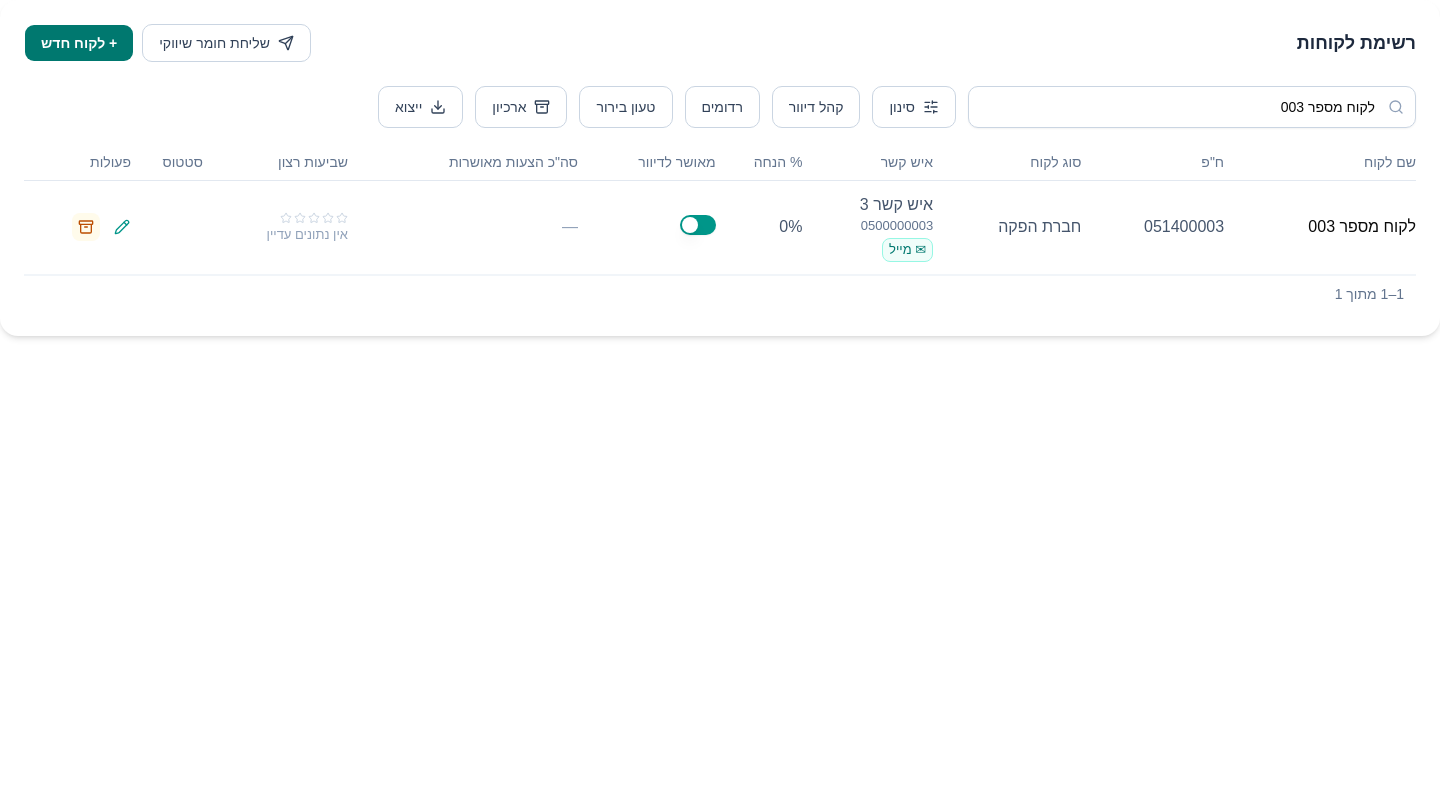
Test case: CustomersPage — חיבור לחלון-הייצוא › סינון-המסך כן משפיע — חיפוש שמשאיר לקוח אחד ⇒ שורה אחת
Check: the table with test id "customers-table" is shown, box top-left (24, 144), bottom-right (1416, 275)
Click the button with test id "customers-export-button" at [421, 107], box top-left (378, 86), bottom-right (463, 128)
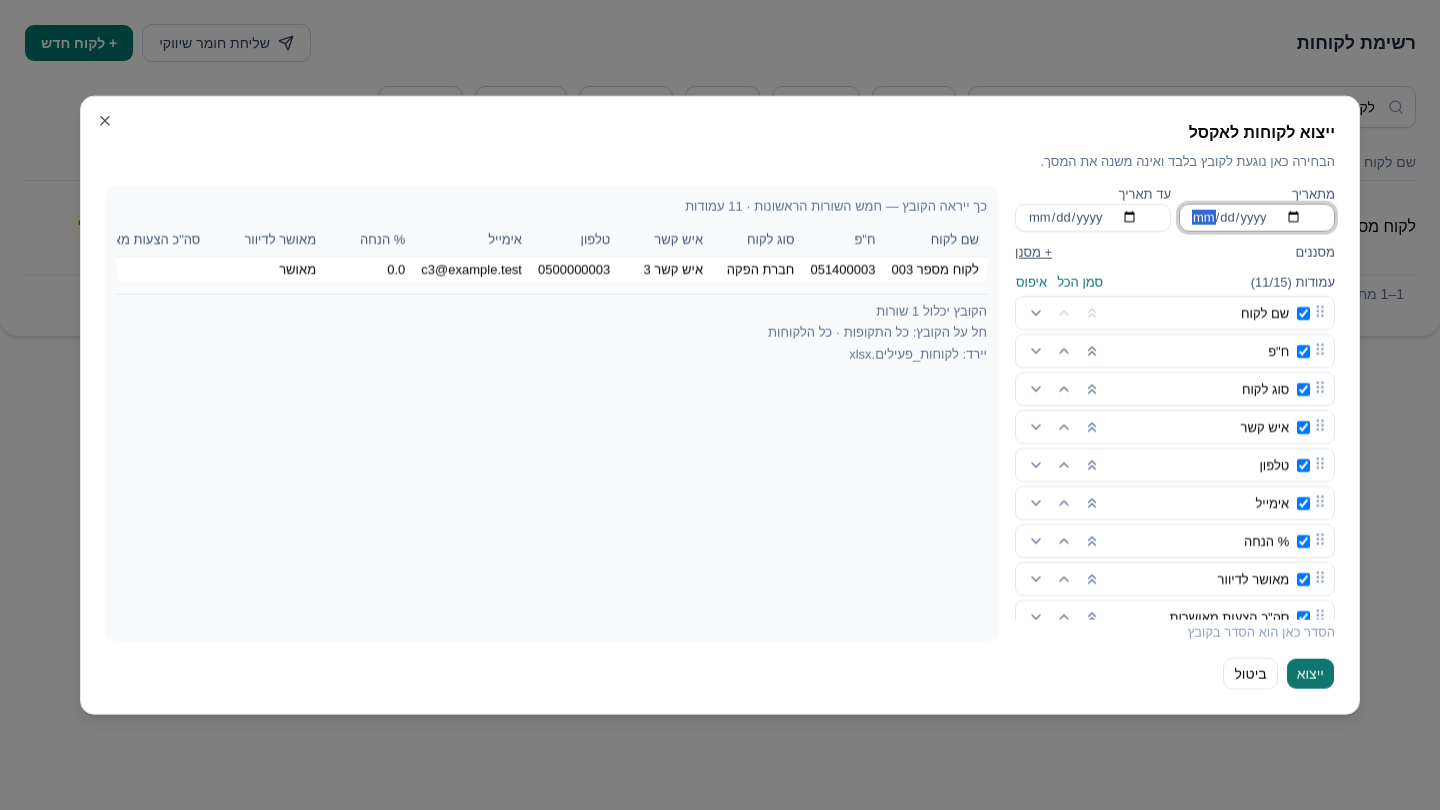
Check: the text with test id "export-count" shows "1 שור", box top-left (876, 304), bottom-right (987, 319)
